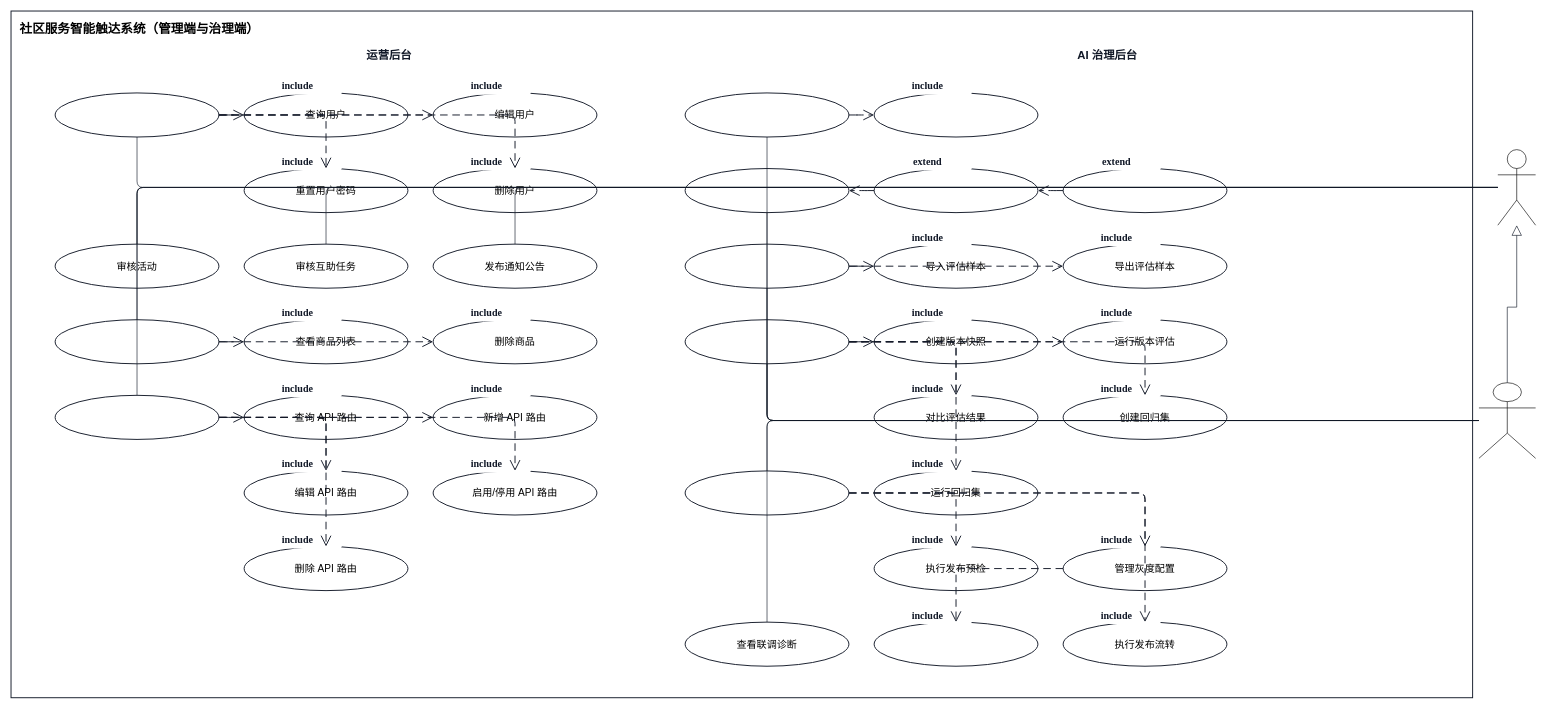
Image size: 1547x709. Some labels were removed from this diagram. Here are the shapes that lost their labels. From the top down, the box of each, then its label:
(54, 92, 219, 137): 管理用户
(684, 92, 849, 137): 查看治理总览
(873, 92, 1038, 137): 查看指标趋势
(684, 168, 849, 213): 查看回放列表
(873, 168, 1038, 213): 查看回放详情
(1062, 168, 1227, 213): 从回放生成评估样本
(1497, 149, 1536, 225): 管理员
(684, 243, 849, 288): 管理评估样本
(54, 319, 219, 364): 管理商品
(684, 319, 849, 364): 管理评估版本与回归
(54, 395, 219, 440): 管理 API 路由
(1478, 382, 1536, 458): 治理管理员
(684, 470, 849, 515): 管理发布记录
(873, 621, 1038, 666): 应用灰度配置
